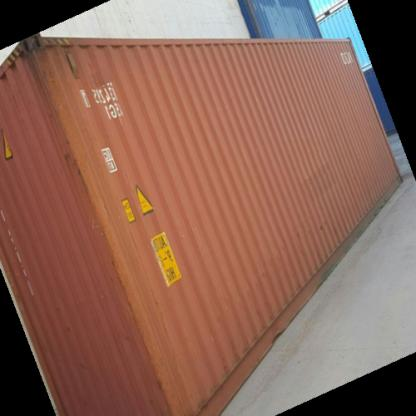Damage: (112, 202, 180, 400), (57, 67, 107, 222), (26, 42, 64, 107)
